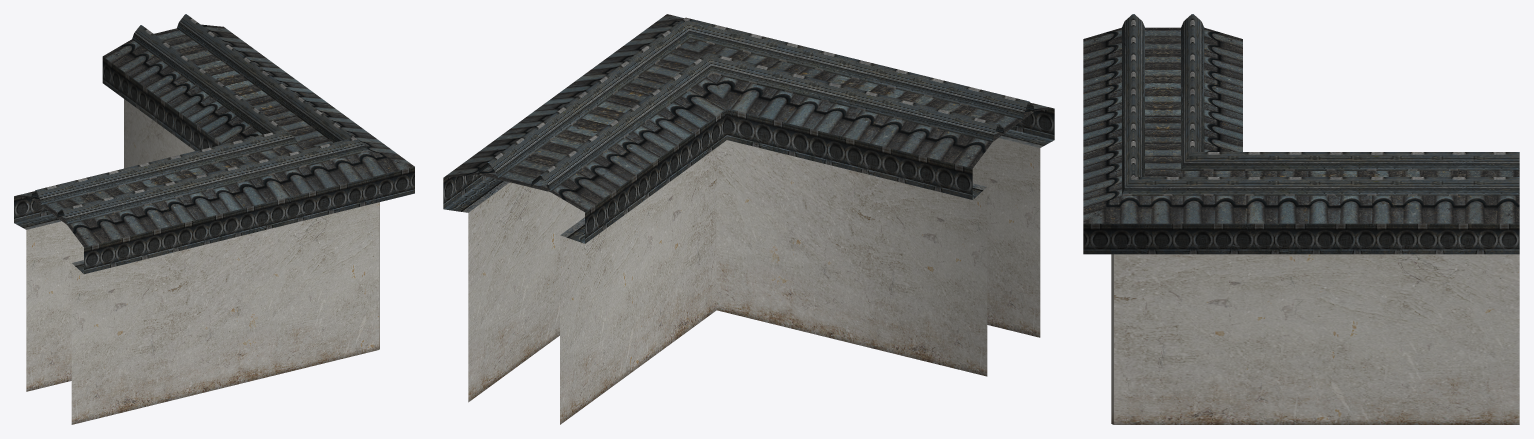
The model's file is wall_corner_004.fbx.
3 renders of one model, left to right at view 1: azimuth 30°, elevation 25°; view 2: azimuth 150°, elevation 25°; view 3: azimuth 270°, elevation 25°, orthographic. The views are drawn at different scales.
Parts seen in each view (by area): view 1: wall_corner_004; view 2: wall_corner_004; view 3: wall_corner_004.
Boxes of the visible parts, <box> form: wall_corner_004: <box>14,14,414,424</box>; wall_corner_004: <box>443,14,1054,424</box>; wall_corner_004: <box>1083,14,1519,424</box>.
Bounding box in the file's own units: 168 × 101 × 168.
